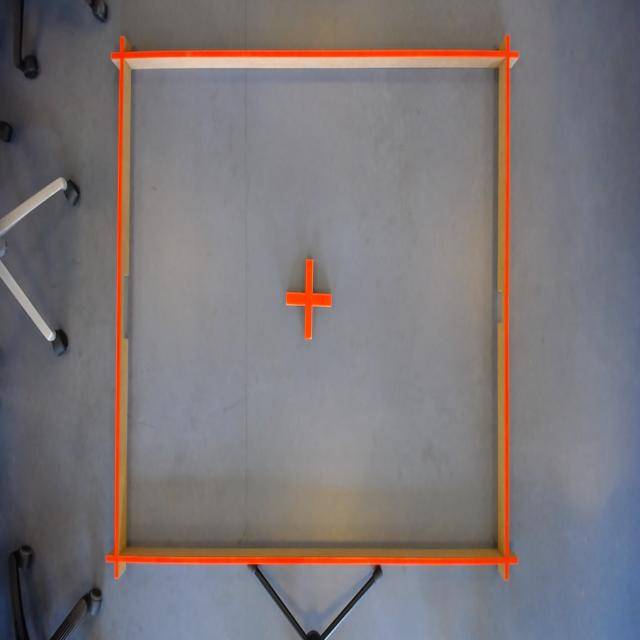cross: (284, 255, 334, 344)
